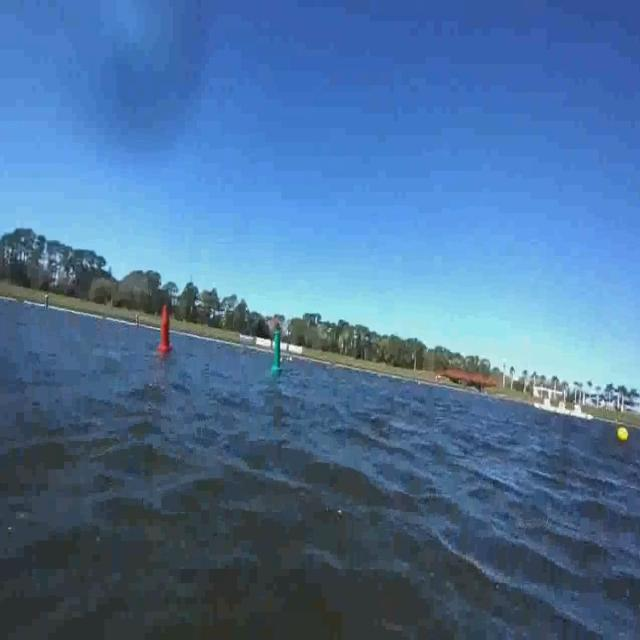green-column-buoy: (267, 322, 287, 384)
red-column-buoy: (153, 302, 173, 369)
